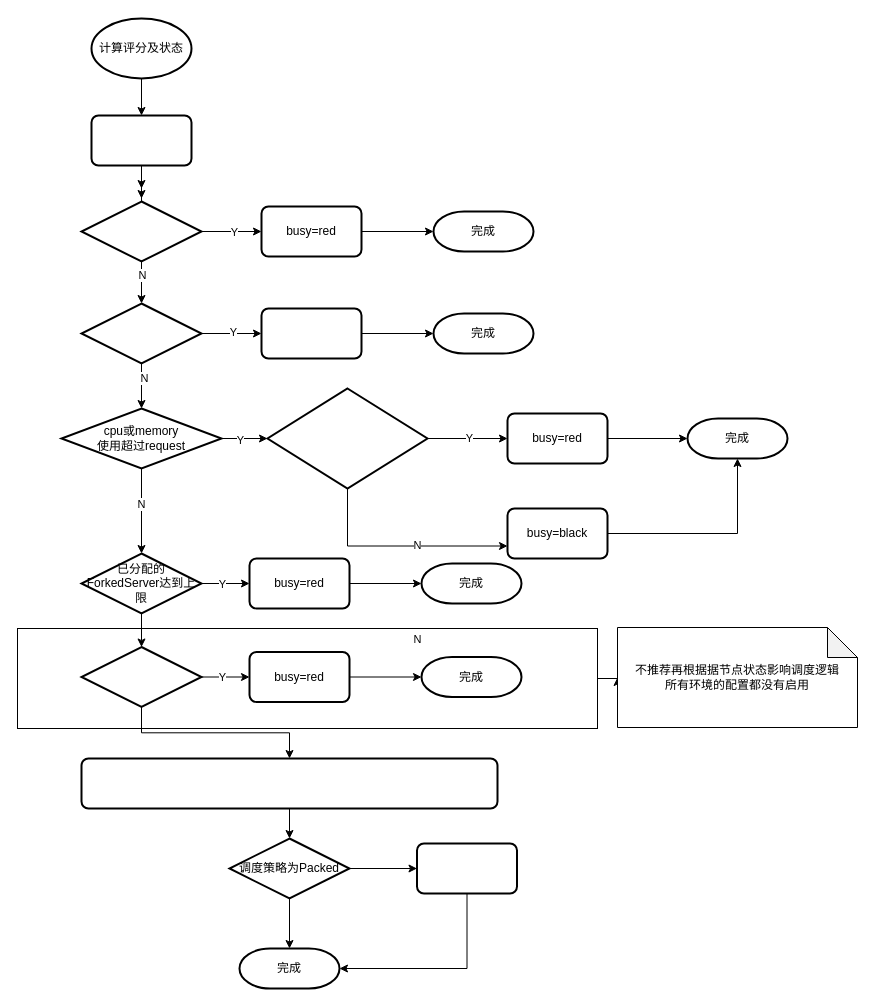
Some shapes in this 875 by 1006 pixel diagram are drawn without their labels. The box of each missing label's shape, as (x1, y1, x2, y2) in pixels:
cpu或memory 使用超过 (request+limit)/2: (266, 387, 428, 489)
score=-score: (416, 842, 518, 894)
score=1 busy=green: (260, 307, 362, 359)
score=分配的ForkedServer数量 * 1000 / 最多分配ForkedServer数量 + 100: (80, 757, 498, 809)
score=无效评分: (90, 114, 192, 166)
开发模式？: (80, 302, 202, 364)
所在节点繁忙？: (80, 646, 202, 708)
种子进程已退出？: (80, 200, 202, 262)
